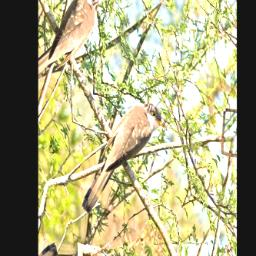Cuckoo: (71, 85, 168, 228)
